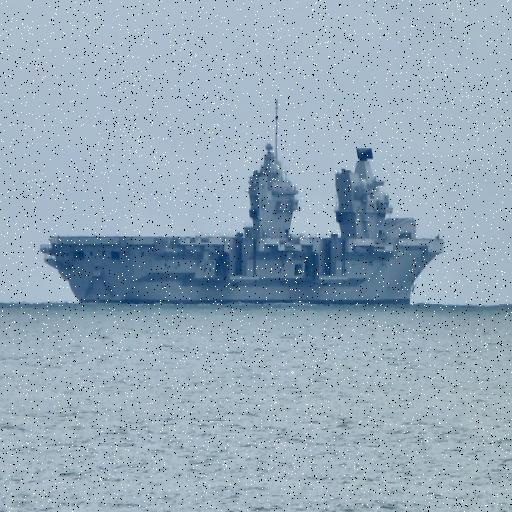Portanaves: (37, 92, 453, 308)
